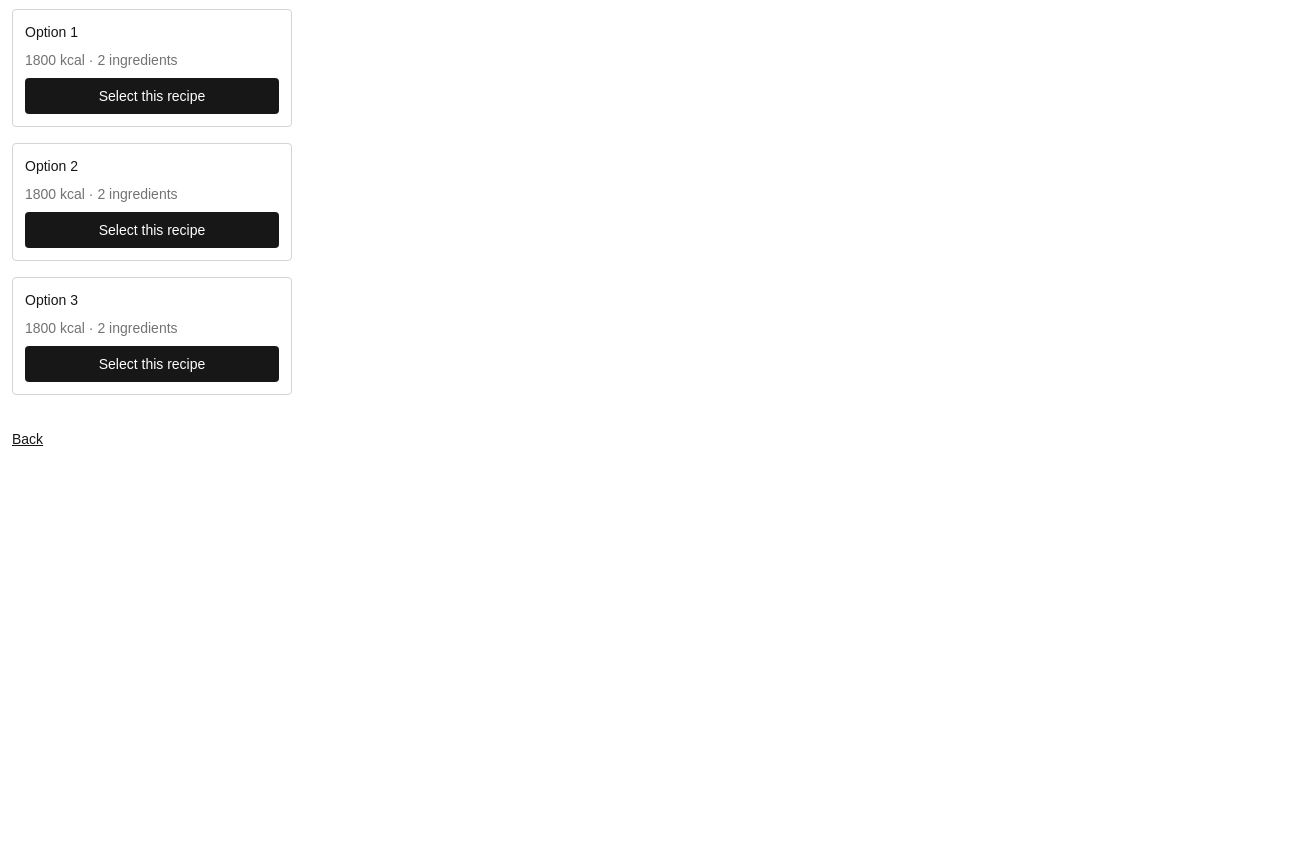
Test: Step5GenerateReview › shows the recipe card once everything is confirmed
Expected: the text "Option 1" is shown, [25,24,78,40]
Click the button "Select this recipe" below "Option 1": (152,96) [25,78,279,114]
(page scrolled)
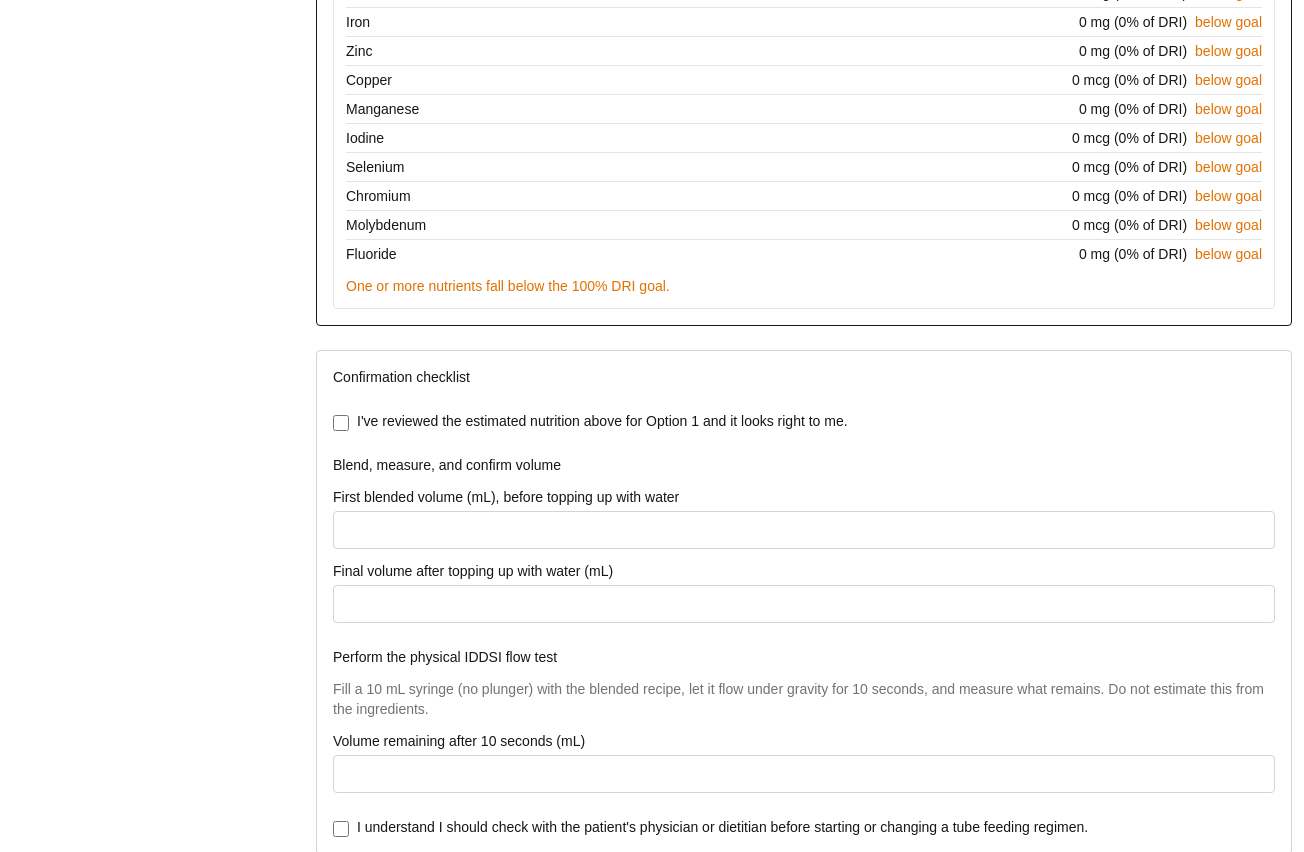
Expected: the heading "recipe card" is not shown
Click the checkbox labelled "reviewed the estimated nutrition": (341,423) [333,415,349,431]
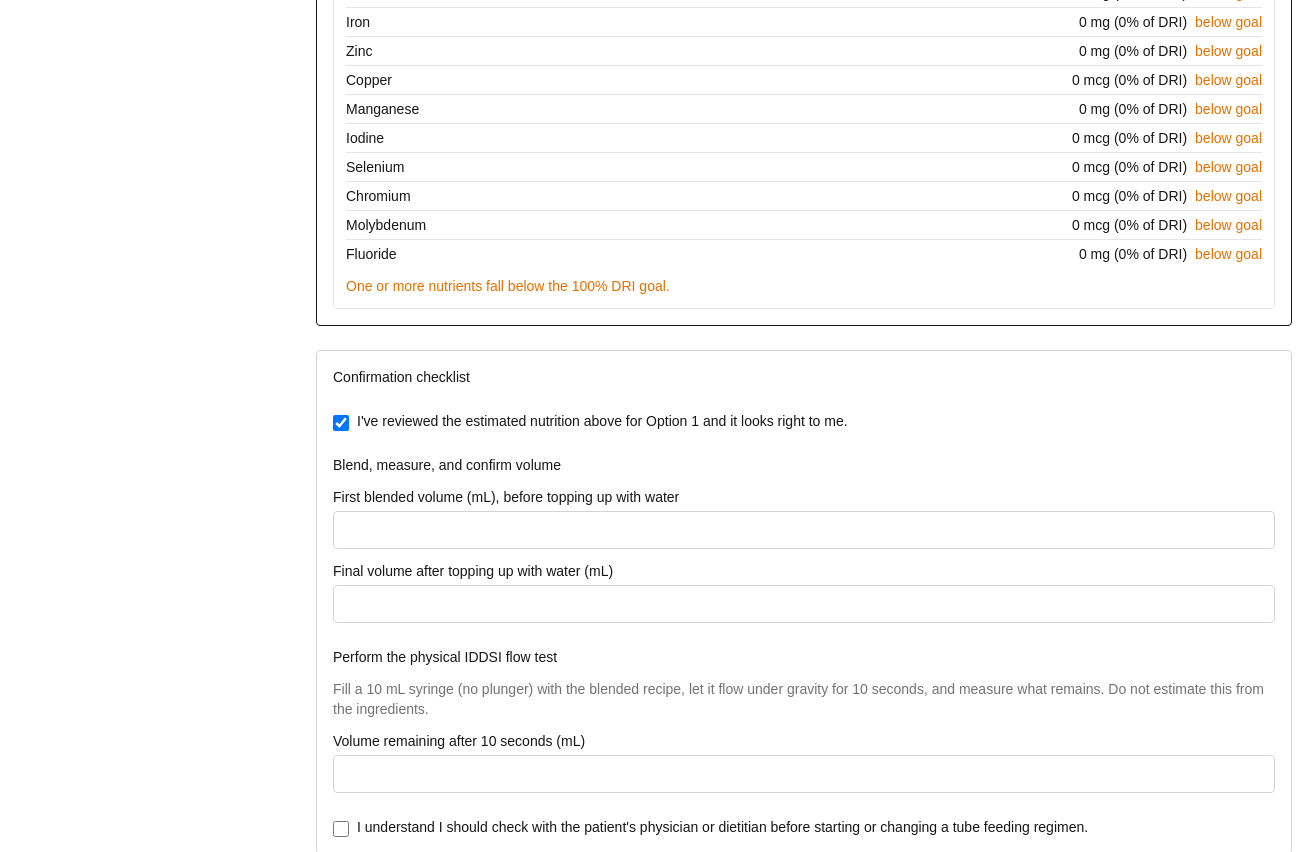
Click the checkbox labelled "understand I should check with the patient's physician": (341,829) [333,821,349,837]
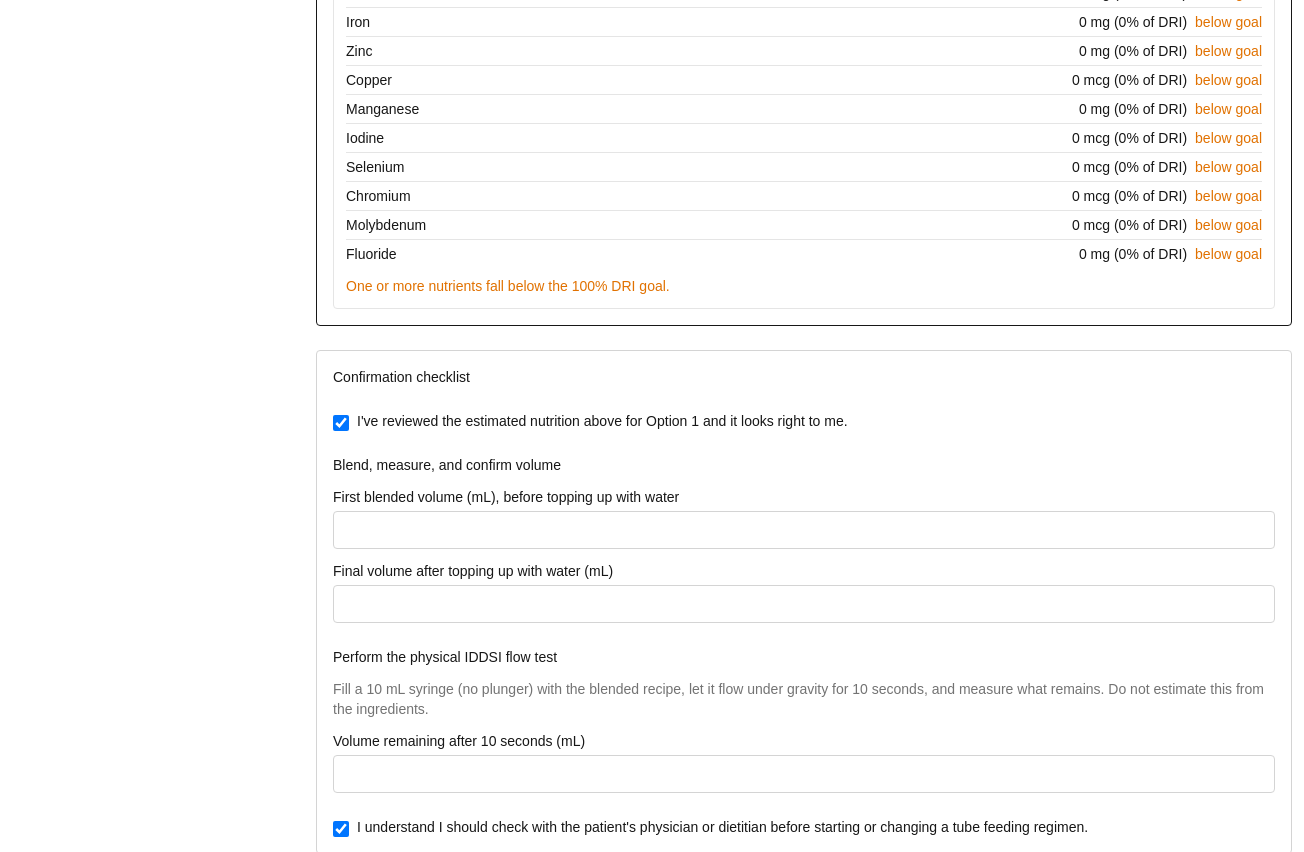
In the number field labelled "Final volume after topping up with water (mL)": (804,604) [333,585,1275,623], type "1200"
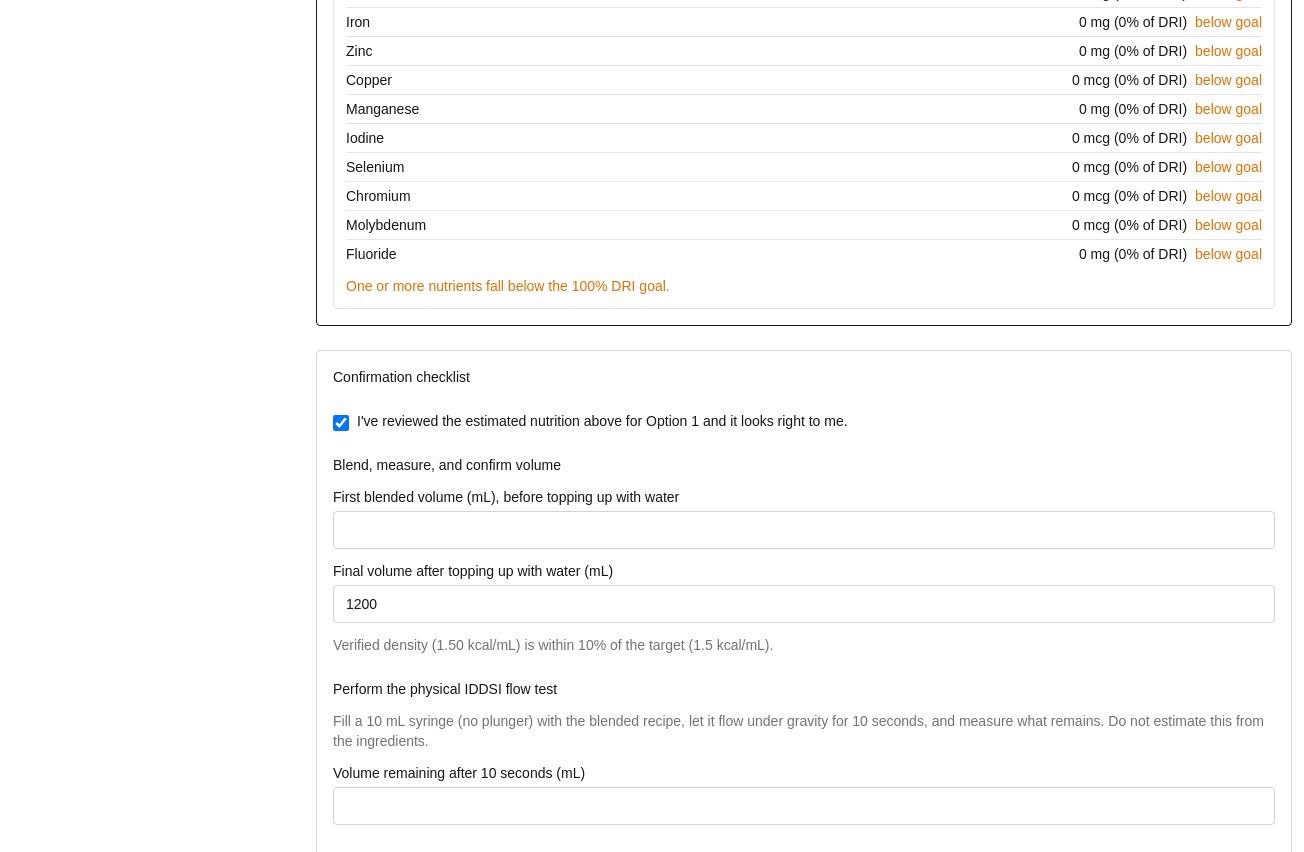
In the number field labelled "Volume remaining after 10 seconds (mL)": (804,806) [333,787,1275,825], type "0"
(page scrolled)
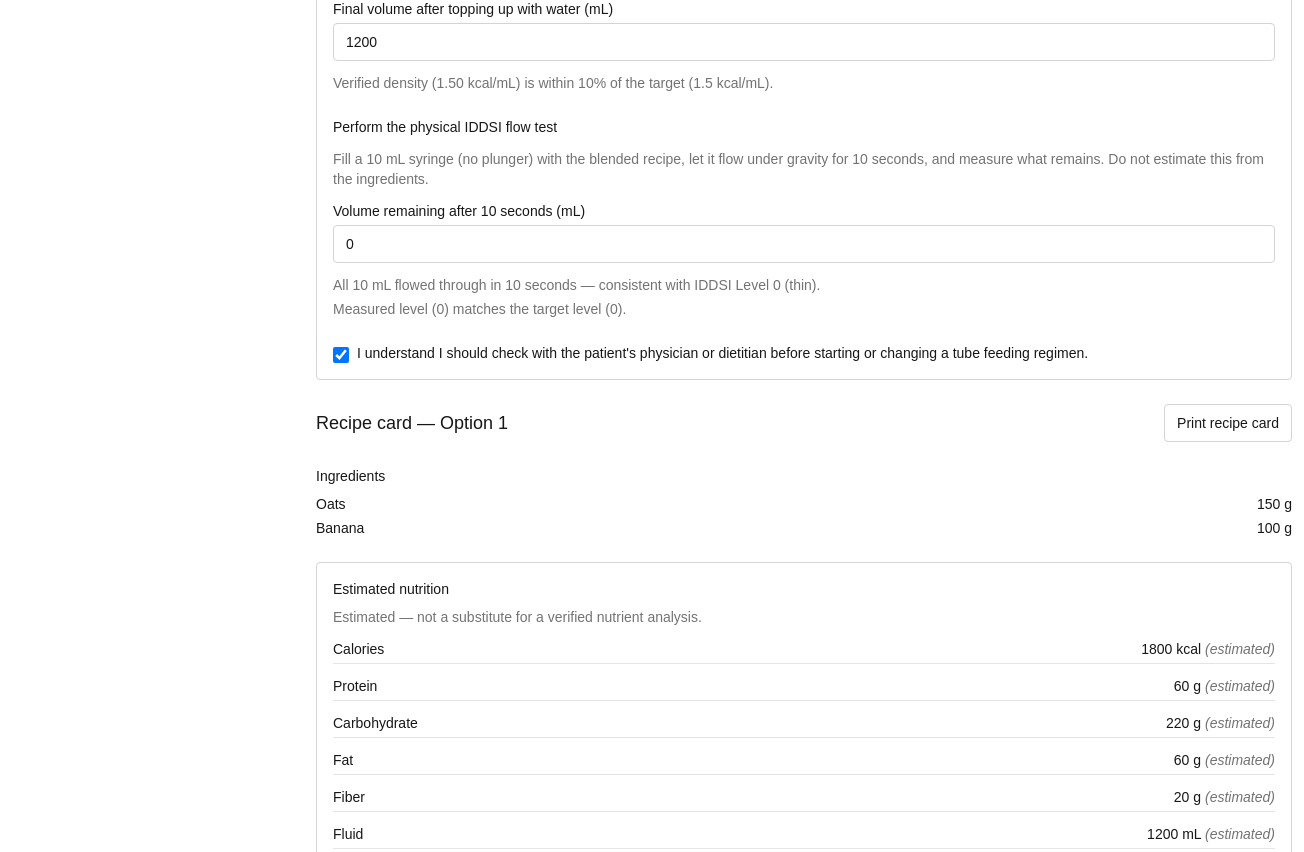
Expected: the heading "Recipe card — Option 1" is shown, [316,409,508,437]
